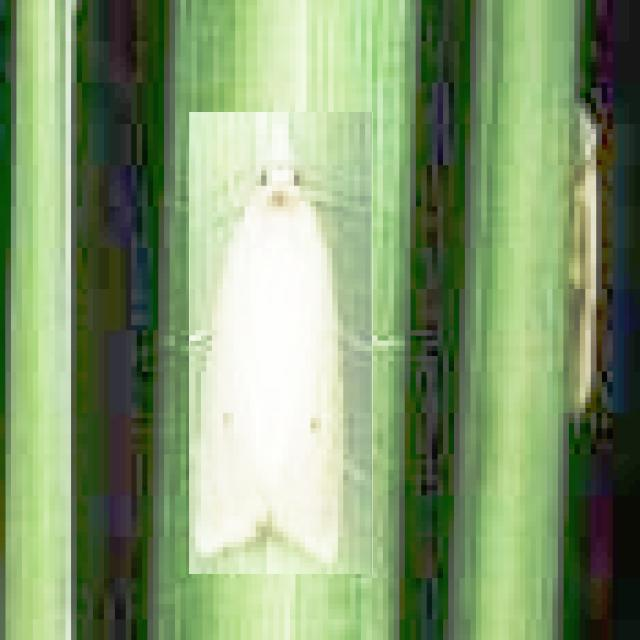stem-borer: (190, 112, 374, 574)
